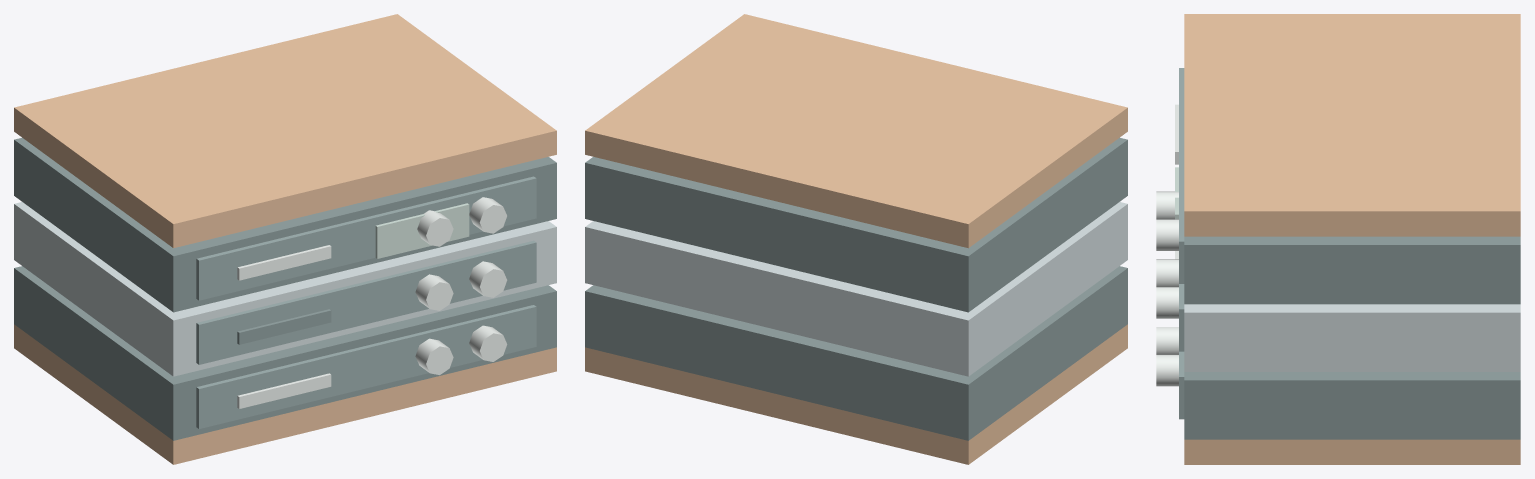
Rendered from hifiStack.glb.
3 renders of one model, left to right at view 1: azimuth 30°, elevation 25°; view 2: azimuth 150°, elevation 25°; view 3: azimuth 270°, elevation 25°, orthographic. The views are drawn at different scales.
Parts seen in each view (by area): view 1: hifiStack; view 2: hifiStack; view 3: hifiStack.
Part boxes in pixels (x1,y1,x2,y2): hifiStack: (14,14,556,464); hifiStack: (585,14,1127,464); hifiStack: (1156,14,1520,464).
Size of the model in its own units: 0.25 by 0.15 by 0.195.
